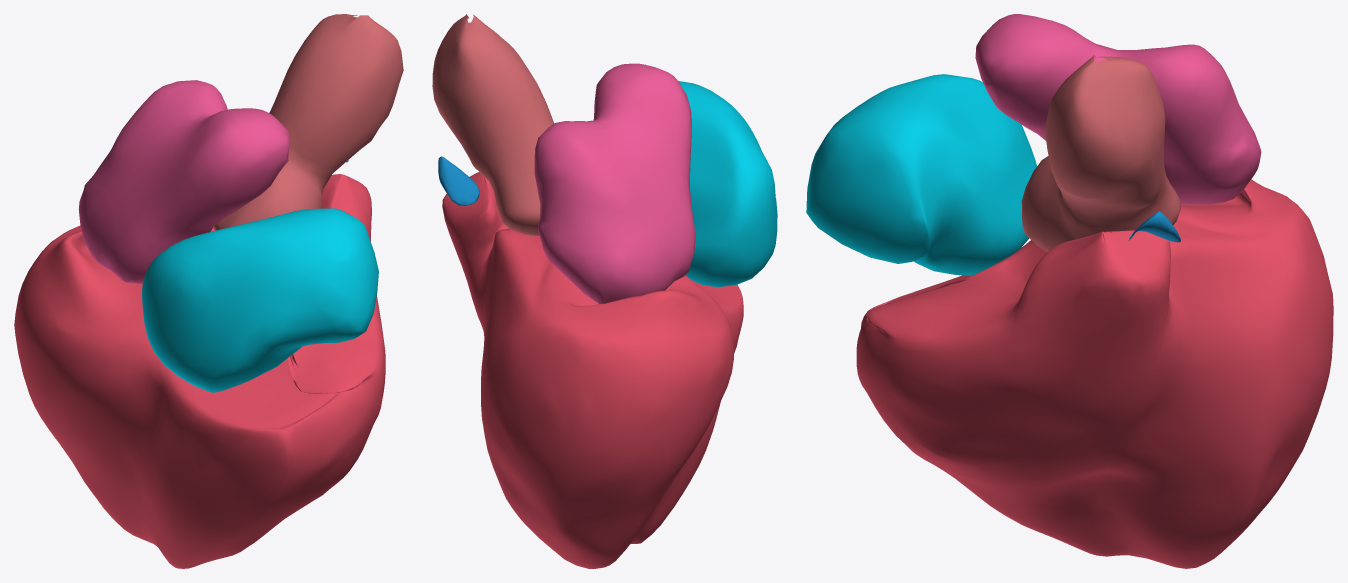
File: frame_22.glb
The picture shows the model from 3 angles, left to right: view 1: azimuth 30°, elevation 25°; view 2: azimuth 150°, elevation 25°; view 3: azimuth 270°, elevation 25°; orthographic projection. The views are drawn at different scales.
Visible parts, largest first — view 1: Renderer Node; view 2: Renderer Node; view 3: Renderer Node.
Boxes of the visible parts, x1,y1,x2,y2 form: Renderer Node: (14, 14, 403, 568); Renderer Node: (432, 14, 777, 568); Renderer Node: (806, 14, 1333, 568).
Bounding box in the file's own units: 103 × 154 × 122.
